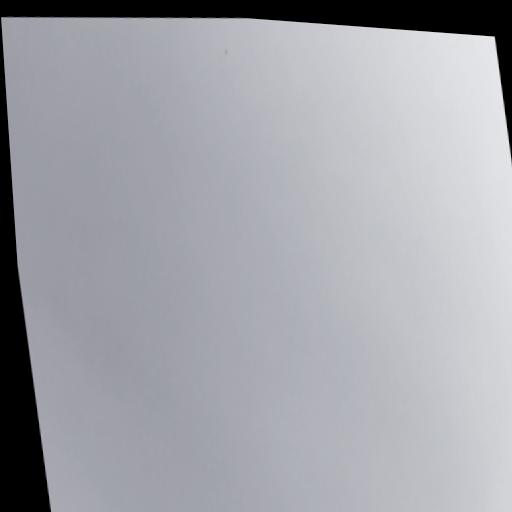drones: (218, 44, 232, 61)
